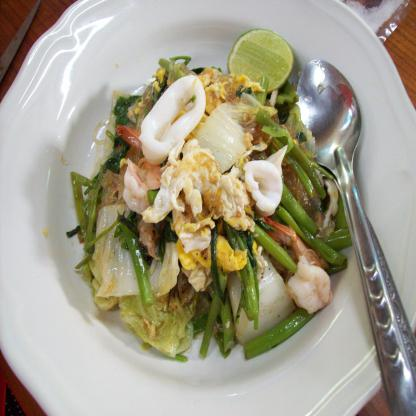Suki: (65, 44, 347, 366)
